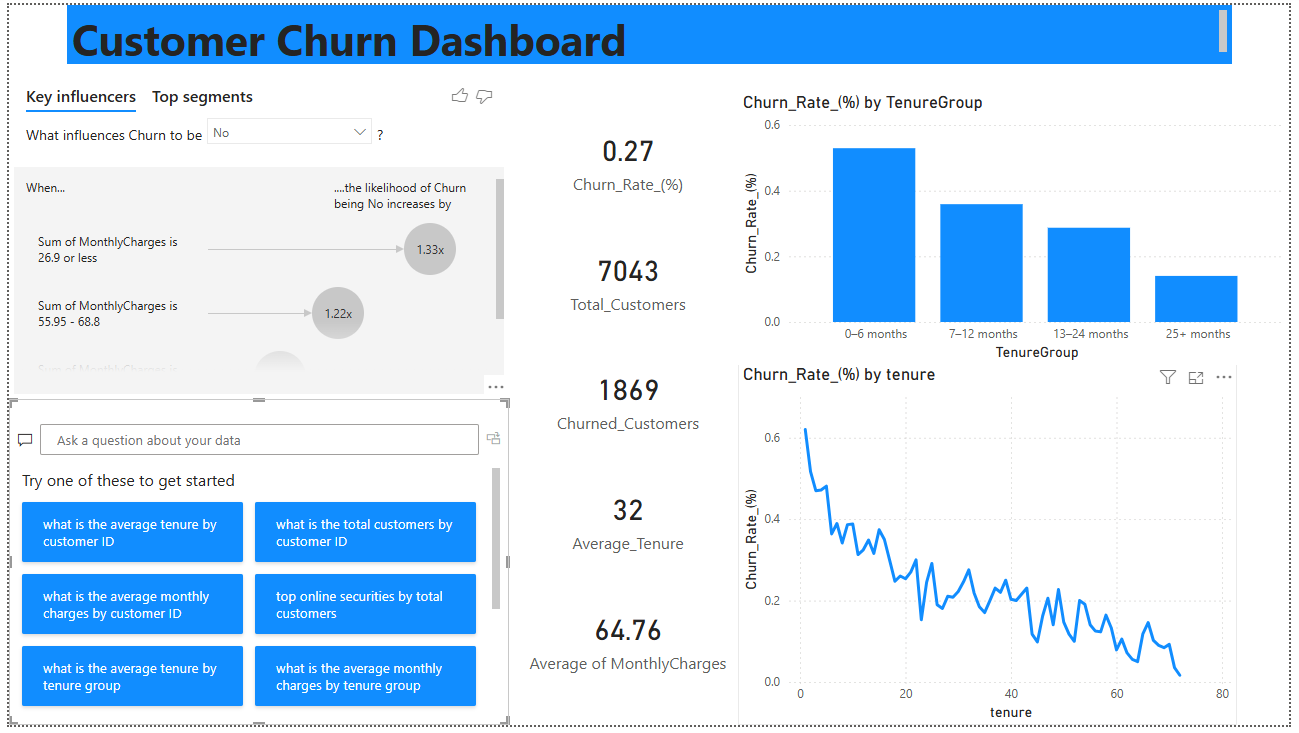

What the dashboard file says about the page in this screenshot:
{"tool":"powerbi","page":{"name":"Page 1","canvas":[1280,720],"ordinal":0},"visuals":[{"type":"textbox","box":[58.3,0,1164.4,59.3],"z":0},{"type":"lineChart","fields":{"Category":["WA_Fn-UseC_-Telco-Customer-Churn.tenure"],"Y":["WA_Fn-UseC_-Telco-Customer-Churn.Churn_Rate_(%)"]},"box":[728.5,358.9,499.9,360.9],"z":1000},{"type":"keyDriversVisual","fields":{"Target":["WA_Fn-UseC_-Telco-Customer-Churn.Churn"],"ExplainBy":["Sum(WA_Fn-UseC_-Telco-Customer-Churn.MonthlyCharges)"]},"box":[0,67.1,499.9,326.8],"z":2000},{"type":"card","fields":{"Values":["WA_Fn-UseC_-Telco-Customer-Churn.Churn_Rate_(%)"]},"box":[508.7,94.3,220,119.6],"z":2001},{"type":"card","fields":{"Values":["WA_Fn-UseC_-Telco-Customer-Churn.Churned_Customers"]},"box":[508.7,333.6,220,119.6],"z":2002},{"type":"card","fields":{"Values":["WA_Fn-UseC_-Telco-Customer-Churn.Total_Customers"]},"box":[508.7,214,220,119.6],"z":2003},{"type":"card","fields":{"Values":["WA_Fn-UseC_-Telco-Customer-Churn.Average Tenure"]},"box":[508.7,453.3,220,119.6],"z":2004},{"type":"card","fields":{"Values":["Avg(WA_Fn-UseC_-Telco-Customer-Churn.MonthlyCharges)"]},"box":[508.7,572.9,220,119.6],"z":2005},{"type":"columnChart","fields":{"Category":["WA_Fn-UseC_-Telco-Customer-Churn.TenureGroup"],"Y":["WA_Fn-UseC_-Telco-Customer-Churn.Churn_Rate_(%)"]},"box":[728.5,86.6,551.5,273.3],"z":2006},{"type":"qnaVisual","box":[0,393.9,499.9,325.8],"z":2007}]}

Visuals, with their boxes in screenshot pixels (x1, y1, x2, y2), scaled from the page's 1280x720 canvas onto the 1299x733 screenshot:
textbox: x1=59, y1=0, x2=1241, y2=60
lineChart - WA_Fn-UseC_-Telco-Customer-Churn.tenure x WA_Fn-UseC_-Telco-Customer-Churn.Churn_Rate_(%): x1=739, y1=365, x2=1247, y2=732
keyDriversVisual - WA_Fn-UseC_-Telco-Customer-Churn.Churn x Sum(WA_Fn-UseC_-Telco-Customer-Churn.MonthlyCharges): x1=0, y1=68, x2=507, y2=401
card - WA_Fn-UseC_-Telco-Customer-Churn.Churn_Rate_(%): x1=516, y1=96, x2=740, y2=218
card - WA_Fn-UseC_-Telco-Customer-Churn.Churned_Customers: x1=516, y1=340, x2=740, y2=461
card - WA_Fn-UseC_-Telco-Customer-Churn.Total_Customers: x1=516, y1=218, x2=740, y2=340
card - WA_Fn-UseC_-Telco-Customer-Churn.Average Tenure: x1=516, y1=461, x2=740, y2=583
card - Avg(WA_Fn-UseC_-Telco-Customer-Churn.MonthlyCharges): x1=516, y1=583, x2=740, y2=705
columnChart - WA_Fn-UseC_-Telco-Customer-Churn.TenureGroup x WA_Fn-UseC_-Telco-Customer-Churn.Churn_Rate_(%): x1=739, y1=88, x2=1298, y2=366
qnaVisual: x1=0, y1=401, x2=507, y2=732
